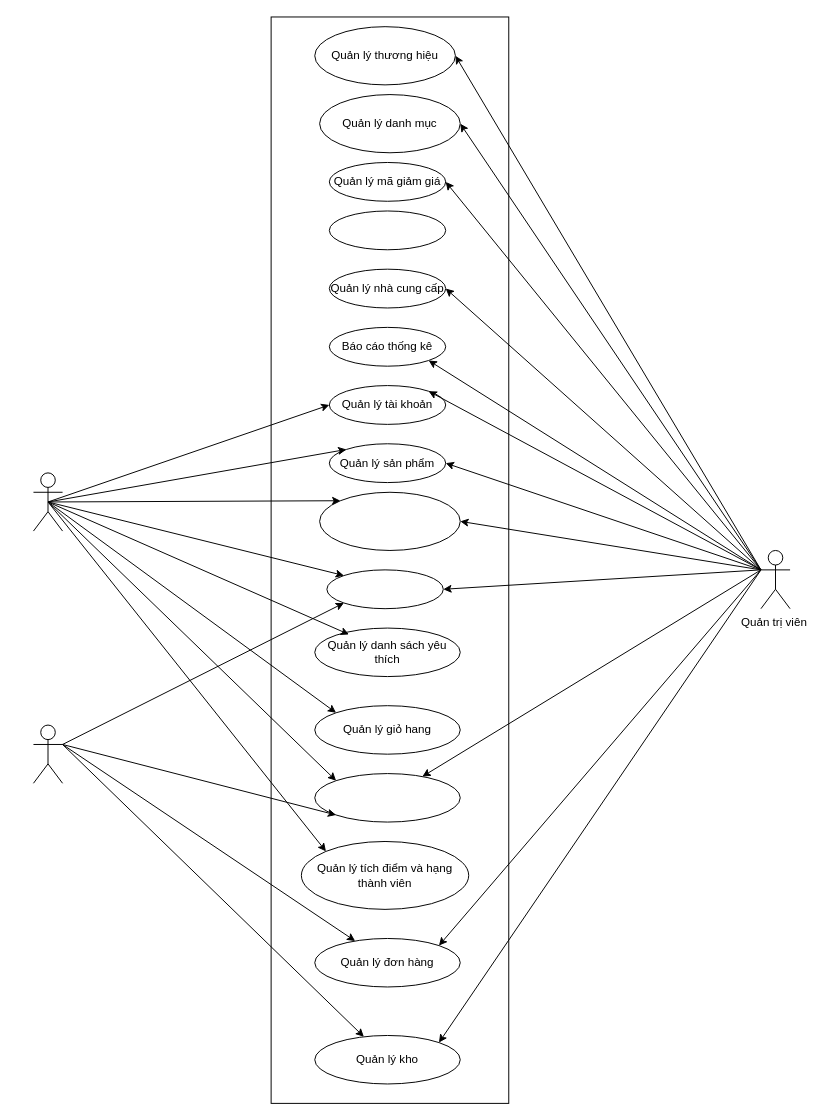
This 826x1120 diagram has some shape labels left out. The shapes that lost their labels are listed below. From the top down, each one's box as (x1, y1, x2, y2) in pixels, then its label:
(328, 210, 446, 250): Quản lý khuyến mãi
(32, 472, 63, 531): Khách hàng
(319, 491, 460, 550): Quản lý đánh giá &bình luận
(326, 569, 443, 609): Quản lý đổi trả hàng
(32, 724, 63, 783): Nhân viên
(314, 773, 460, 822): Quản lý thanh toán
